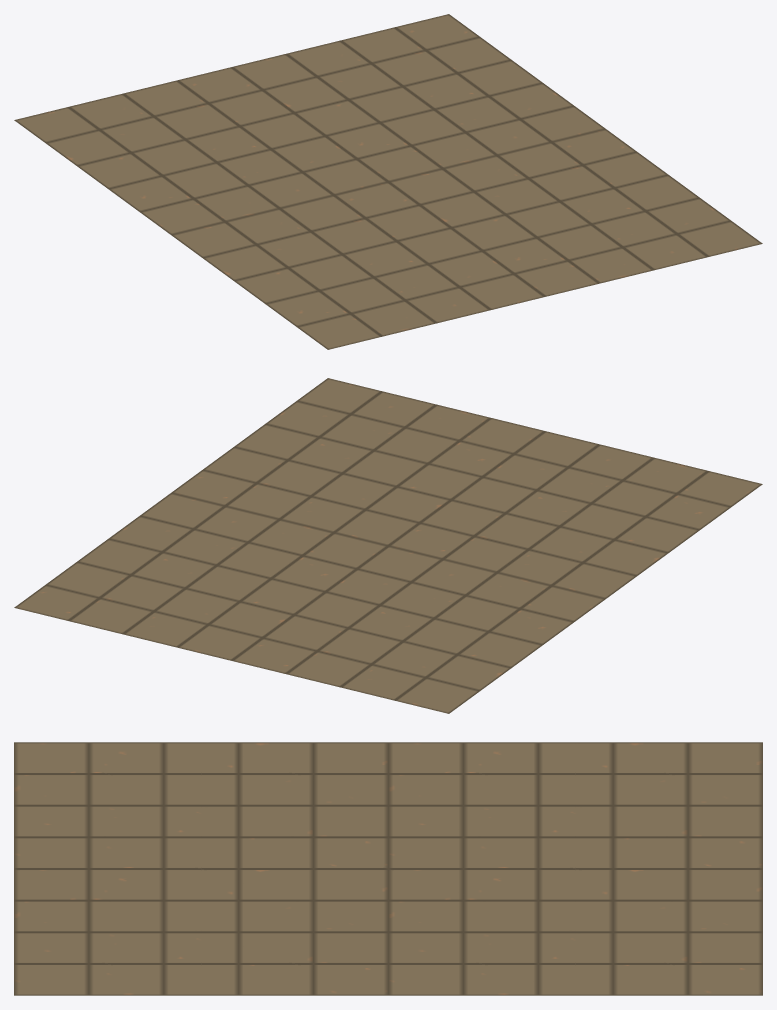
Rendered from SW_ENV_Floor_A_4x5m.fbx.
3 views of the same model, one above another, from view 1: azimuth 30°, elevation 25°; view 2: azimuth 150°, elevation 25°; view 3: azimuth 270°, elevation 25° (orthographic). The views are drawn at different scales.
Parts seen in each view (by area): view 1: SW_ENV_Floor_A_4x5m; view 2: SW_ENV_Floor_A_4x5m; view 3: SW_ENV_Floor_A_4x5m.
Boxes of the visible parts, x1,y1,x2,y2 form: SW_ENV_Floor_A_4x5m: [14, 14, 762, 349]; SW_ENV_Floor_A_4x5m: [14, 378, 762, 713]; SW_ENV_Floor_A_4x5m: [14, 742, 762, 995].
Bounding box in the file's own units: 400 × 0.0001 × 500.
